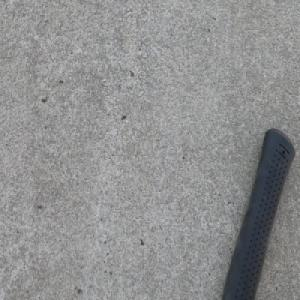Hammer: (218, 125, 297, 300)
